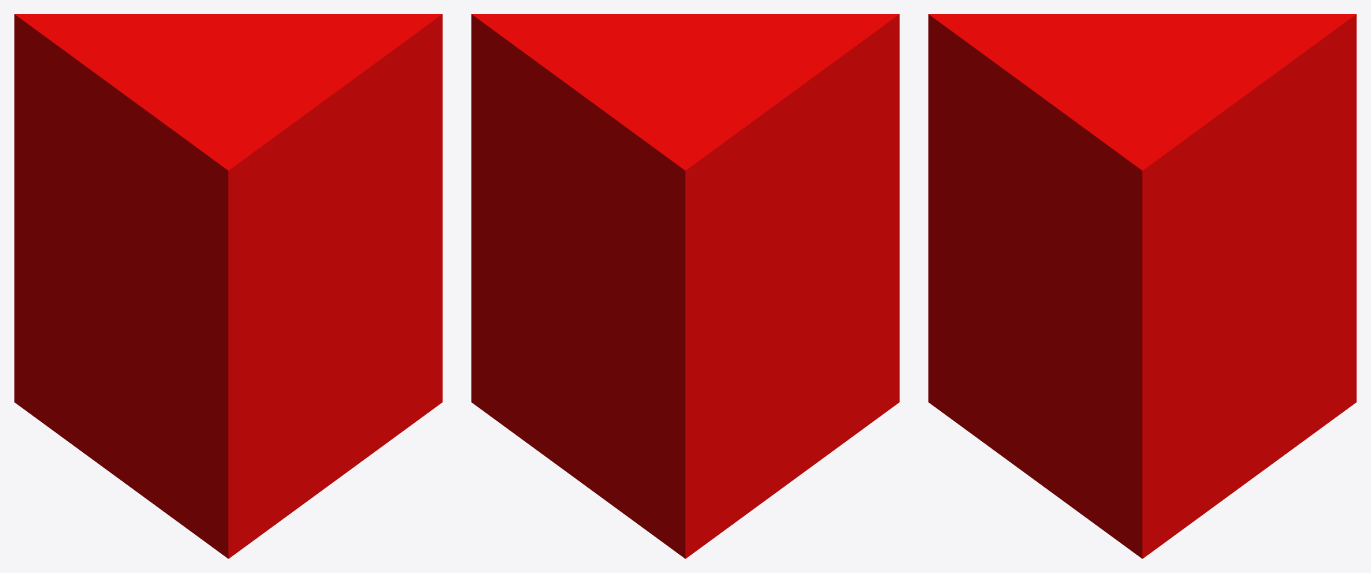
The model's file is regular_triangular_prism.fbx.
The picture shows the model from 3 angles, left to right: view 1: azimuth 30°, elevation 25°; view 2: azimuth 150°, elevation 25°; view 3: azimuth 270°, elevation 25°; orthographic projection.
Visible parts, largest first — view 1: regular_triangular_prism; view 2: regular_triangular_prism; view 3: regular_triangular_prism.
Boxes of the visible parts, x1,y1,x2,y2 form: regular_triangular_prism: (14, 14, 442, 558); regular_triangular_prism: (471, 14, 899, 558); regular_triangular_prism: (928, 14, 1356, 558).
Size of the model in its own units: 104 by 121 by 121.
